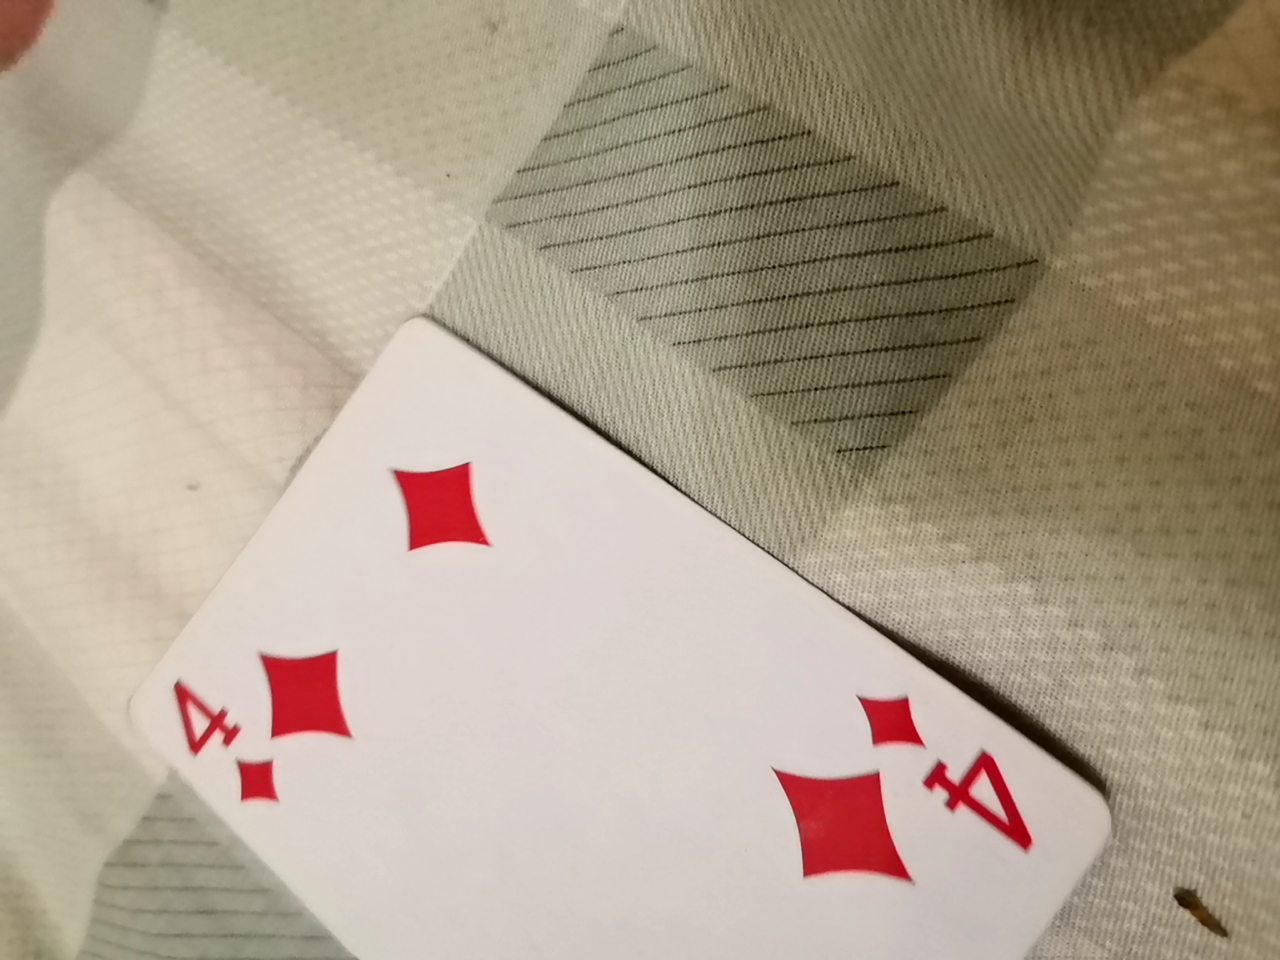fk 4: (122, 305, 1089, 955)
